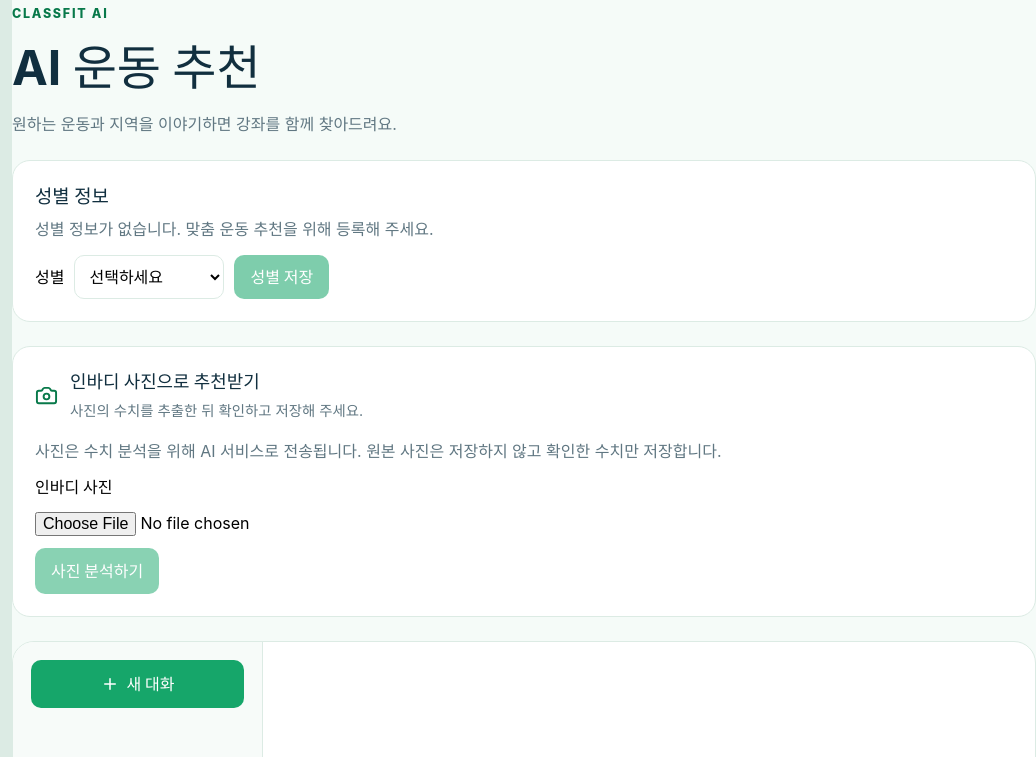
it: ChatPage › creates_a_conversation_and_shows_reply_and_recommended_course
The width and height of the screenshot is (1036, 757).
Click the button "새 대화" at (138, 684), box x1=31 y1=660 x2=244 y2=708
(page scrolled)
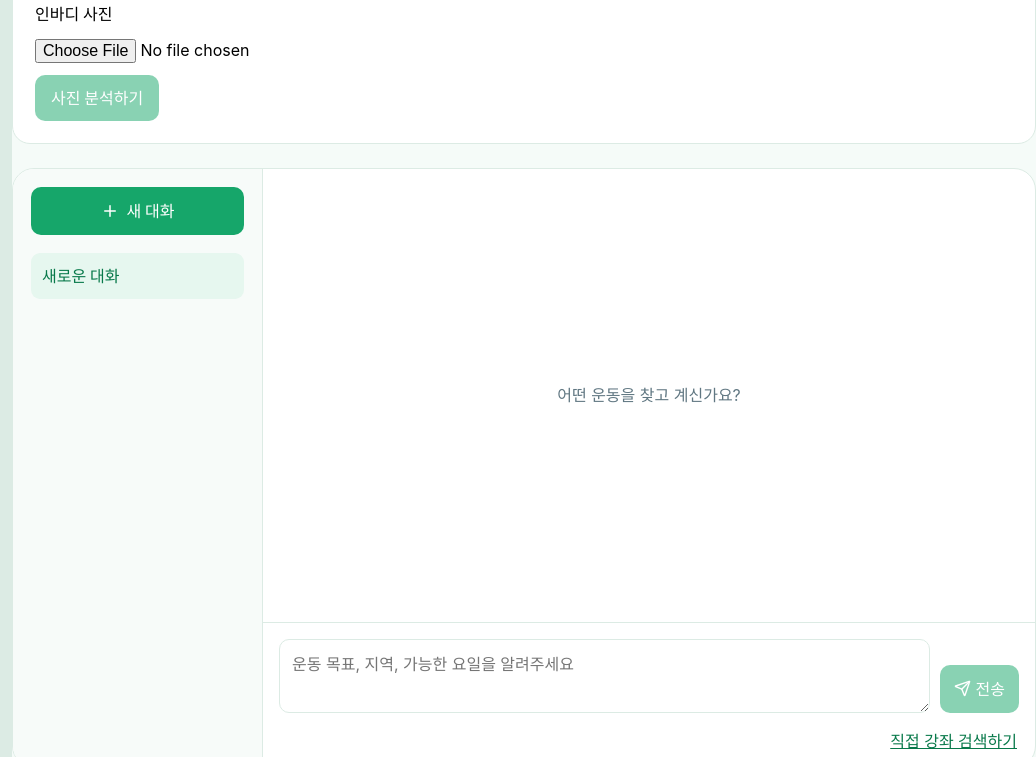
Type "수영 추천해줘" into the text box named "메시지" at (604, 676), box x1=279 y1=639 x2=930 y2=713
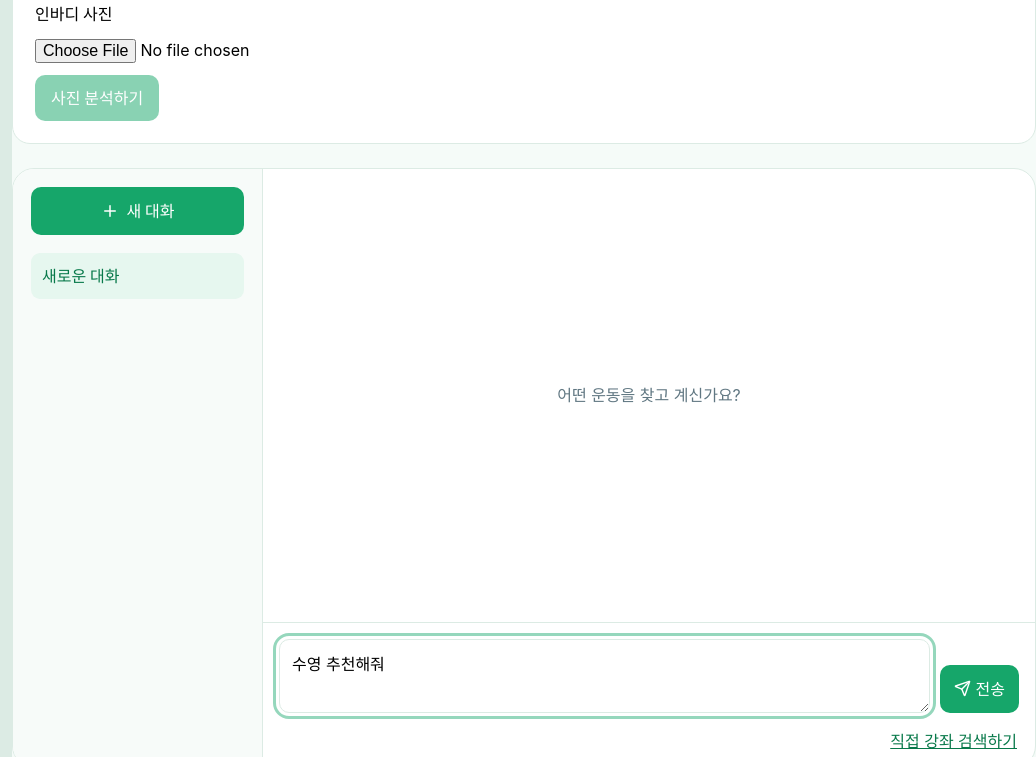
Click the button "전송" at (979, 689), box x1=940 y1=665 x2=1019 y2=713
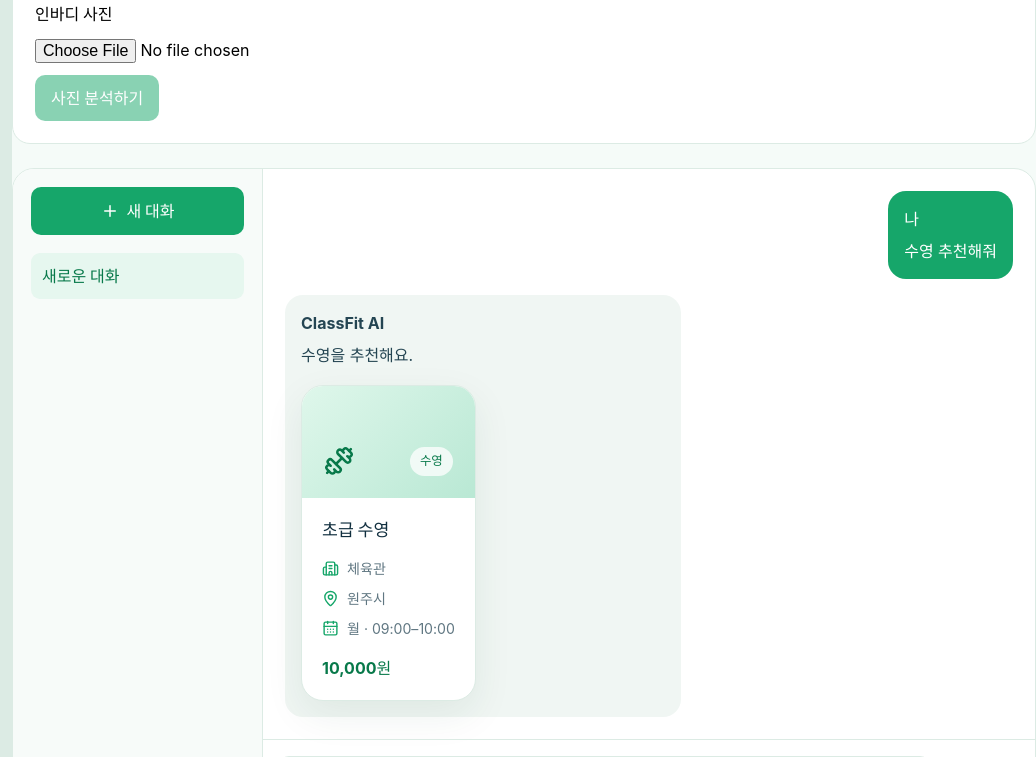
Check: the text "수영을 추천해요." is shown, box x1=301 y1=345 x2=413 y2=365
